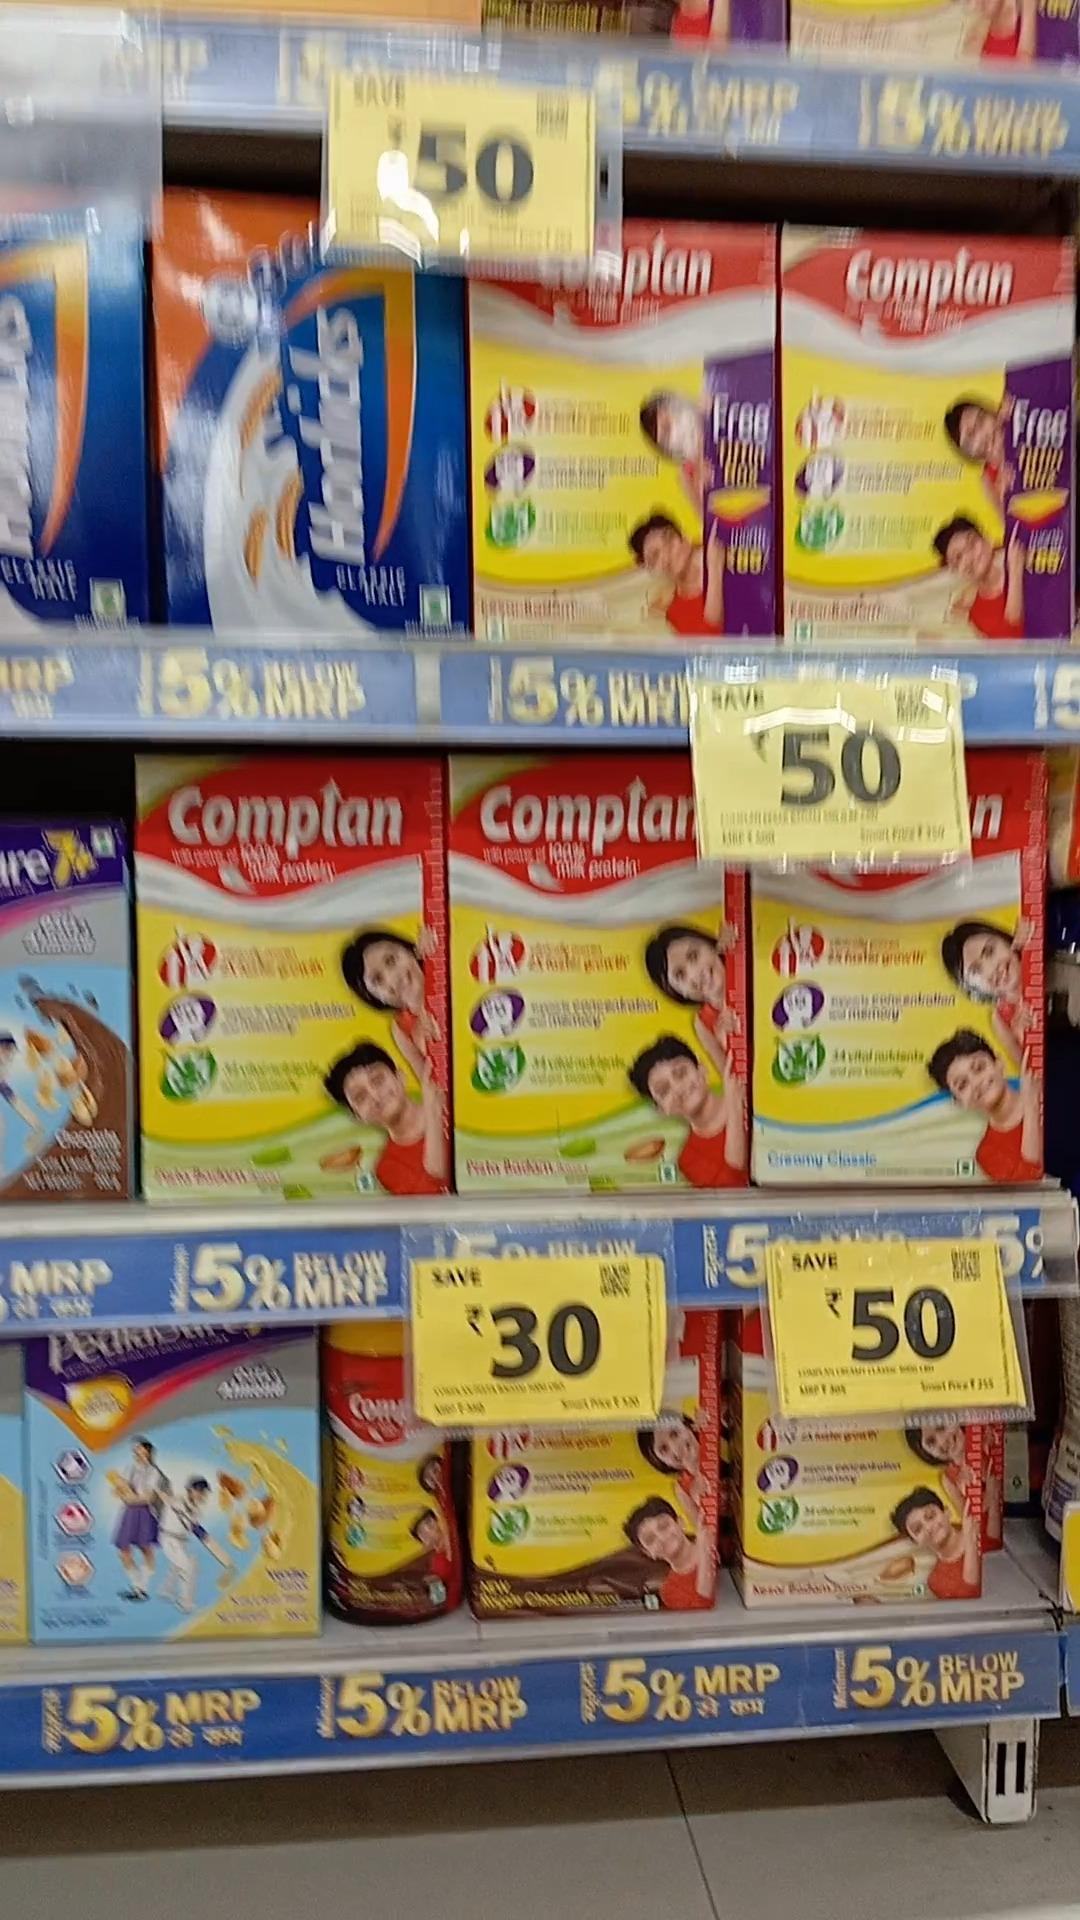COMPLAN_CHOCOLATE_500_GMS_PACK: (477, 1419, 720, 1615)
COMPLAN_KESAR_BADAM_500_GMS_PACK: (471, 223, 774, 642), (785, 232, 1080, 634), (744, 1414, 989, 1605)
COMPLAN_PISTA_BADAM_500_GMS_PACK: (137, 764, 442, 1199), (450, 761, 746, 1195)
HORLICK_CHOCOLATE_200_G_JAR: (322, 1320, 472, 1626)
HORLICK_CLASSIC_MALT_500_G_PACK: (154, 191, 467, 628)
